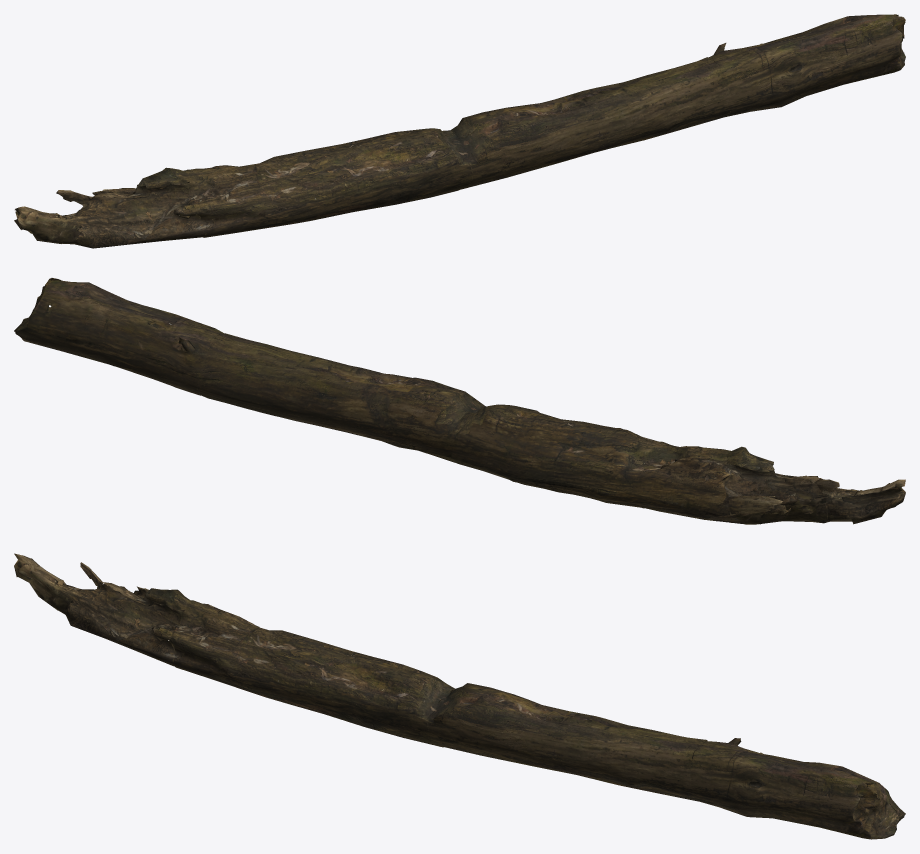
Rendered from dead_tree_trunk_lod.glb.
The picture shows the model from 3 angles, top to bottom: view 1: azimuth 30°, elevation 25°; view 2: azimuth 150°, elevation 25°; view 3: azimuth 330°, elevation 25°; orthographic projection.
Visible parts, largest first — view 1: dead_tree_trunk; view 2: dead_tree_trunk; view 3: dead_tree_trunk.
Part boxes in pixels (x1,y1,x2,y2): dead_tree_trunk: (14, 14, 905, 248); dead_tree_trunk: (14, 278, 905, 524); dead_tree_trunk: (14, 553, 905, 839).
Bounding box in the file's own units: 3.05 × 0.2882 × 0.2736.
Materials: 1 (1 with a texture image).
